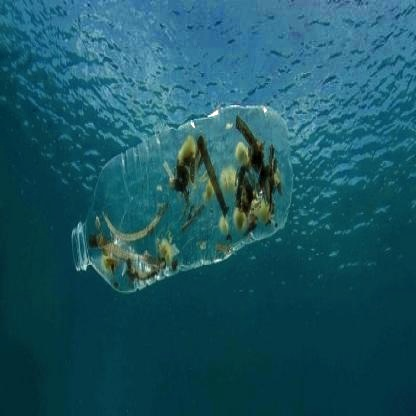pbottle: (61, 88, 302, 298)
